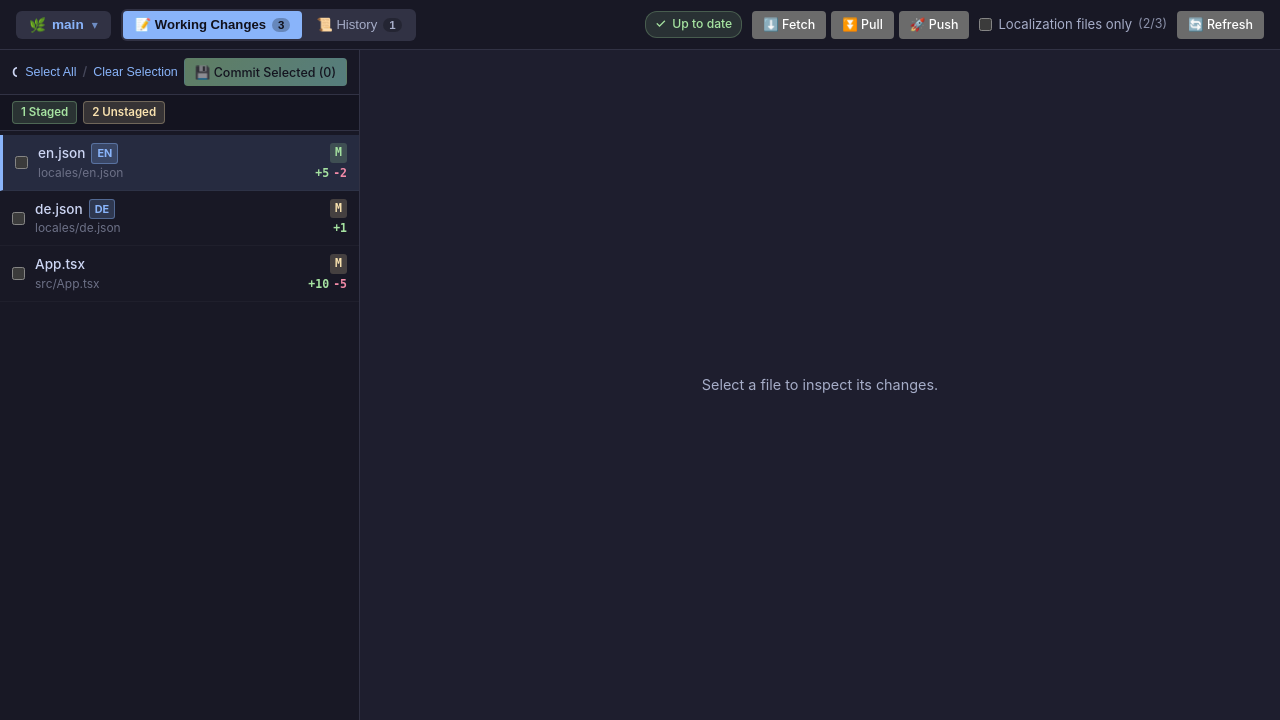
Scenario: GitSourceControlView › filters localization files when toggle is clicked
Expected: the text "App.tsx" is shown, [35,254,85,275]
Click the checkbox with test id "git-working-loc-filter" at (986, 24), box [980,18,992,31]
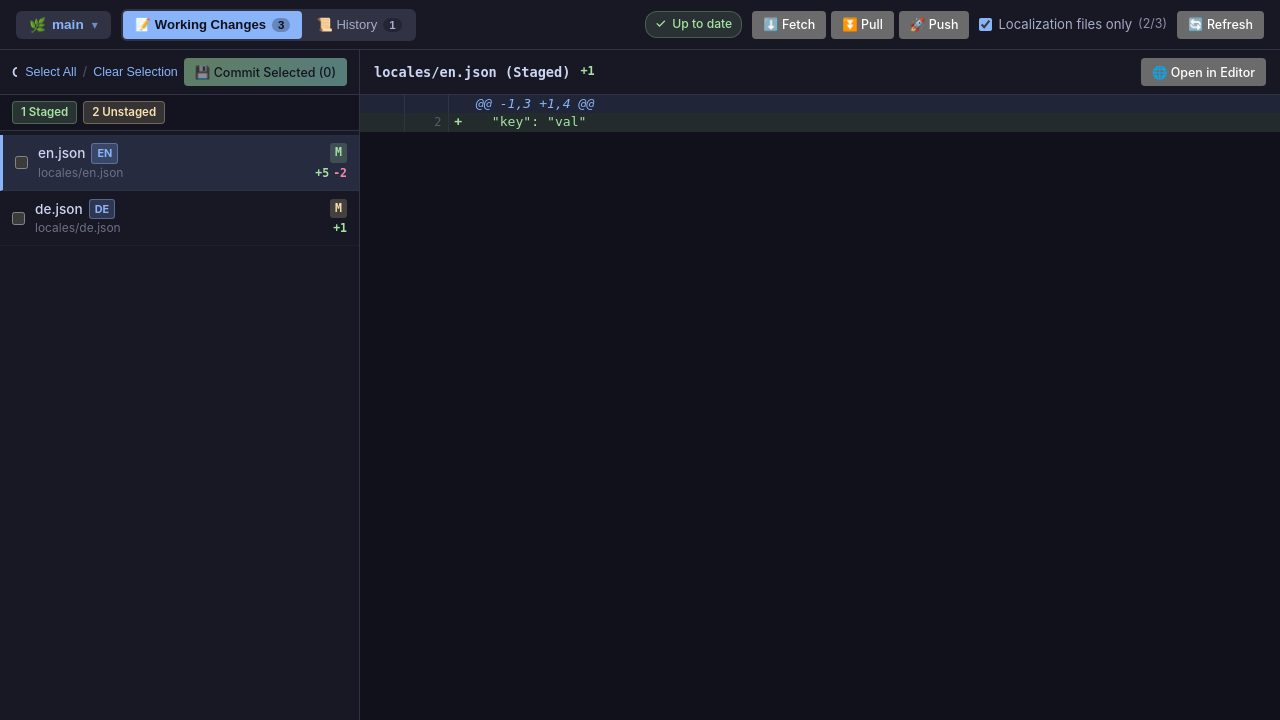
Expected: the text "en.json" is shown, [38,143,85,164]
Result: the text "App.tsx" is gone
